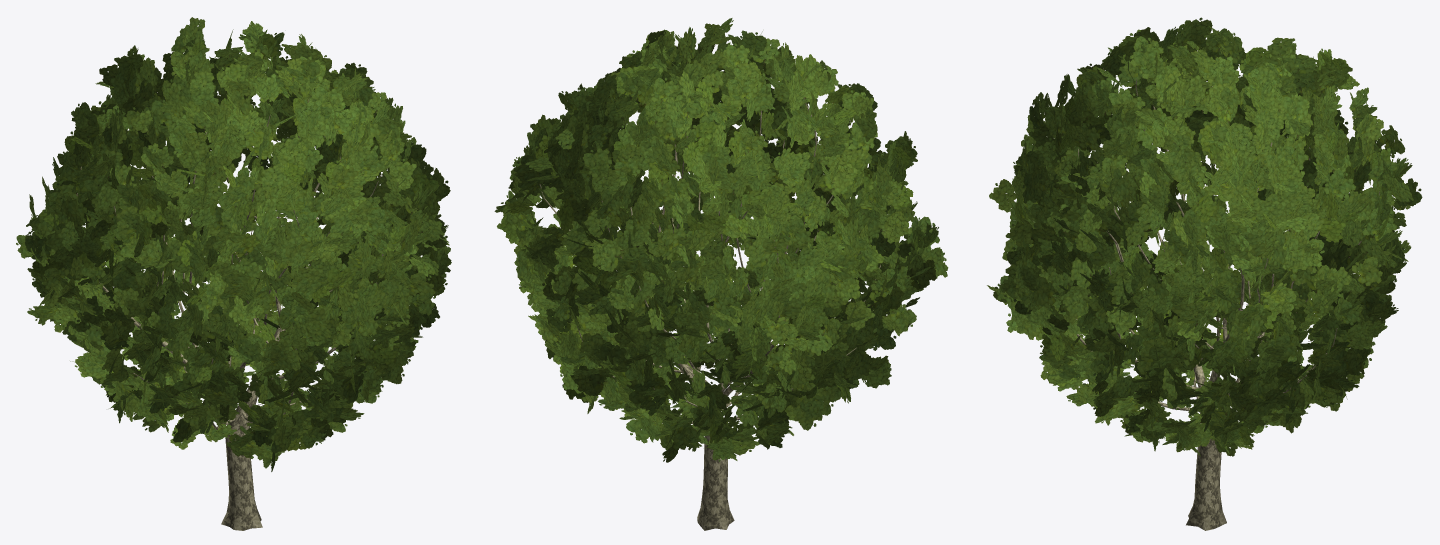
File: arbre_platane_lod0.glb
3 renders of one model, left to right at view 1: azimuth 30°, elevation 25°; view 2: azimuth 150°, elevation 25°; view 3: azimuth 270°, elevation 25°, orthographic.
Parts seen in each view (by area): view 1: arbre_platane_lod0; view 2: arbre_platane_lod0; view 3: arbre_platane_lod0.
Part boxes in pixels (bbox=[...]): arbre_platane_lod0: bbox=[16, 17, 451, 530]; arbre_platane_lod0: bbox=[494, 18, 948, 530]; arbre_platane_lod0: bbox=[987, 17, 1422, 530].
Size of the model in its own units: 12.62 by 15.1 by 12.47.
2 materials, 2 textured.
